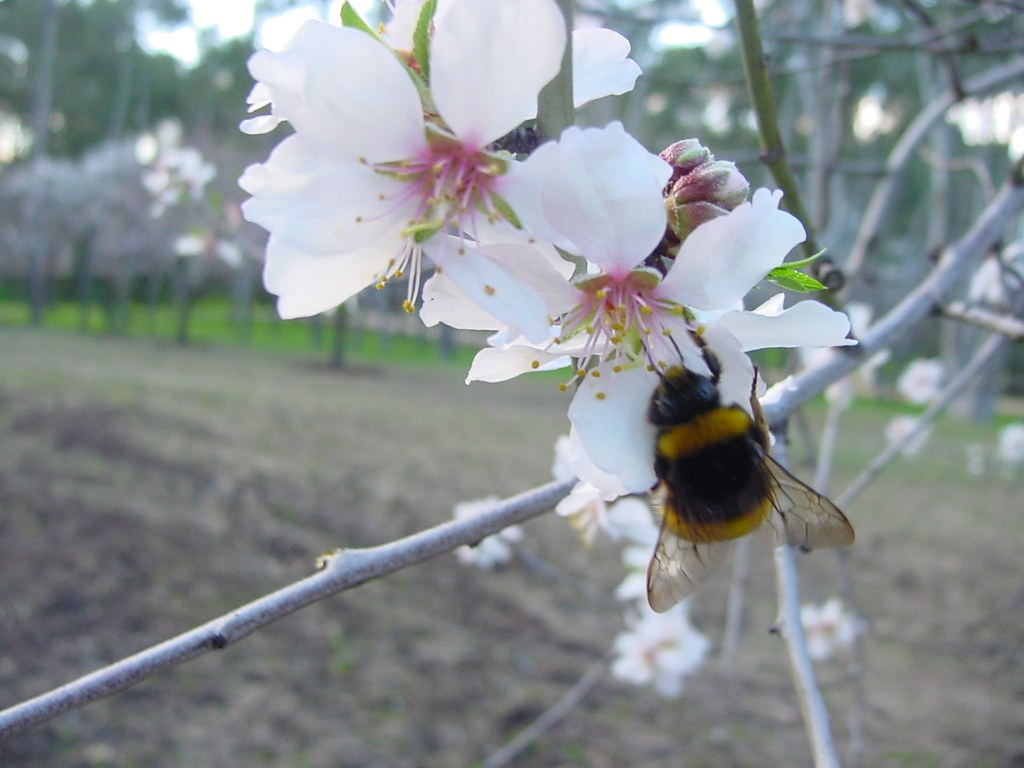bee: (602, 321, 863, 611)
